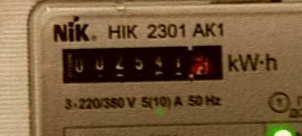0: (73, 53, 86, 74), (94, 51, 106, 72)
1: (173, 51, 184, 71)
2: (114, 51, 126, 72)
4: (154, 50, 166, 71)
5: (133, 50, 145, 72)
6: (195, 62, 206, 77)
screen: (53, 36, 236, 93)
